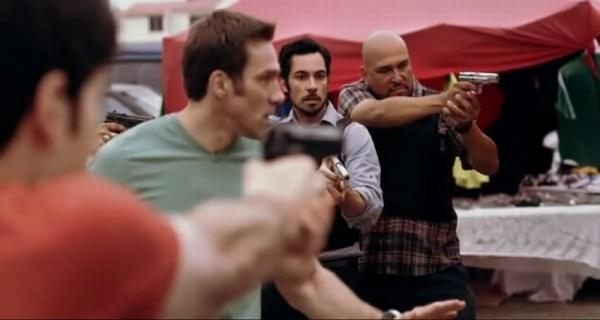Gun: (105, 111, 156, 131), (459, 71, 500, 92), (329, 154, 350, 183)
